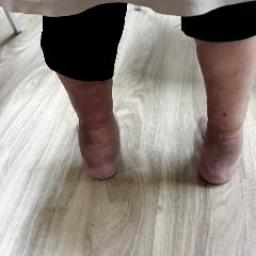Back View -Both Feet-: (51, 70, 251, 200)
